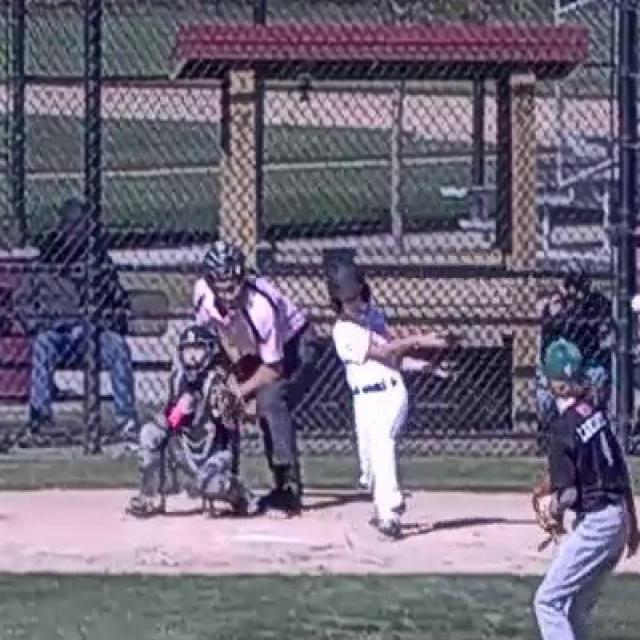baseball: (632, 295, 640, 311)
